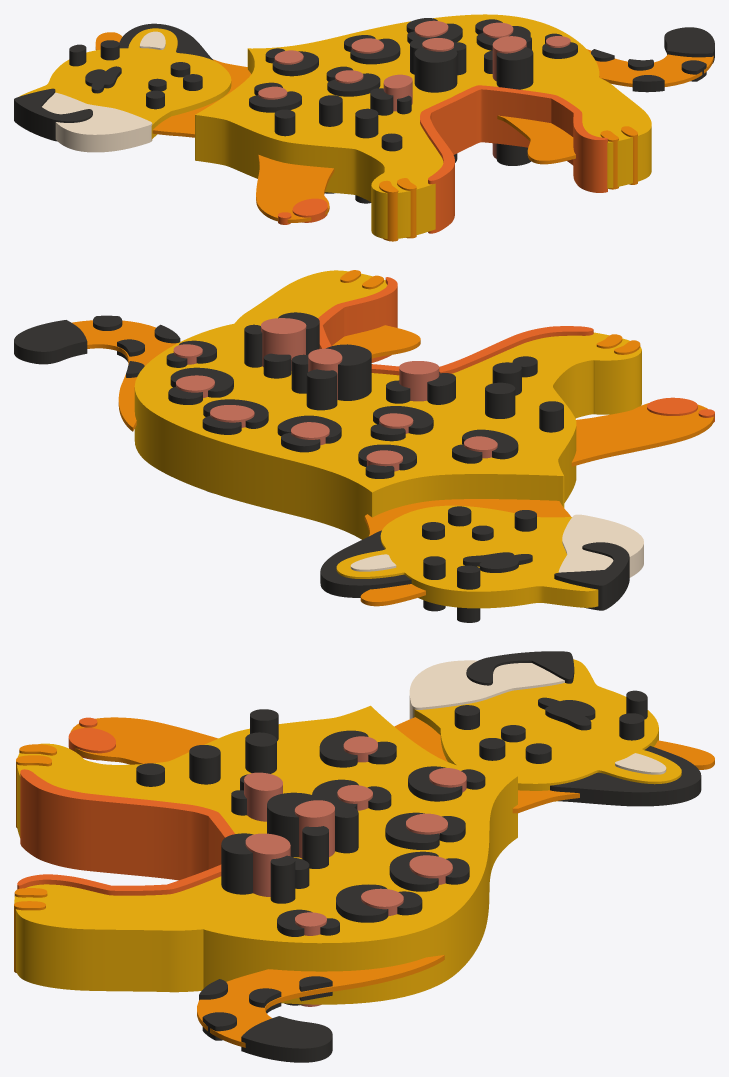
File: emoji_u1f406.glb
3 renders of one model, top to bottom at view 1: azimuth 30°, elevation 25°; view 2: azimuth 150°, elevation 25°; view 3: azimuth 270°, elevation 25°, orthographic. The views are drawn at different scales.
Parts seen in each view (by area): view 1: emoji_u1f406; view 2: emoji_u1f406; view 3: emoji_u1f406.
Boxes of the visible parts, box(x1,y1,x2,y2) form: emoji_u1f406: box(14, 14, 714, 241); emoji_u1f406: box(14, 270, 714, 622); emoji_u1f406: box(14, 651, 714, 1062).
Size of the model in its own units: 0.0354 by 0.0062 by 0.0269.
